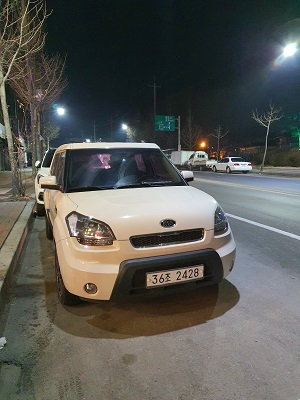car: (142, 265, 208, 287)
